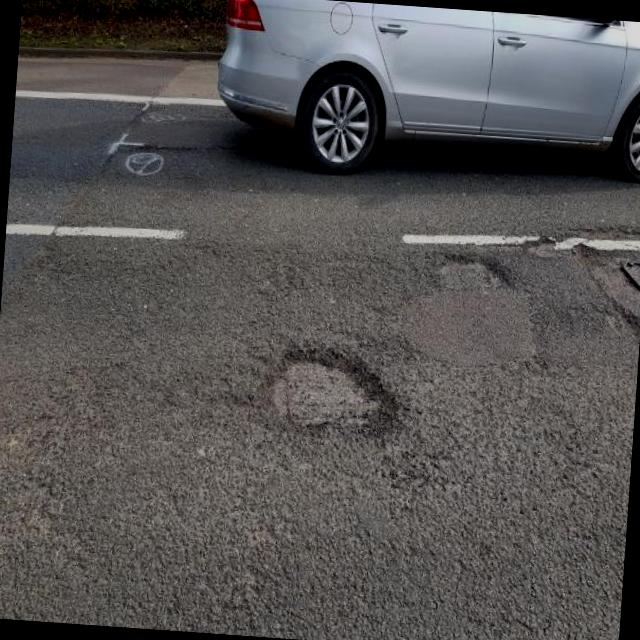pothole: (240, 330, 406, 448), (520, 216, 640, 258), (424, 242, 510, 291)
